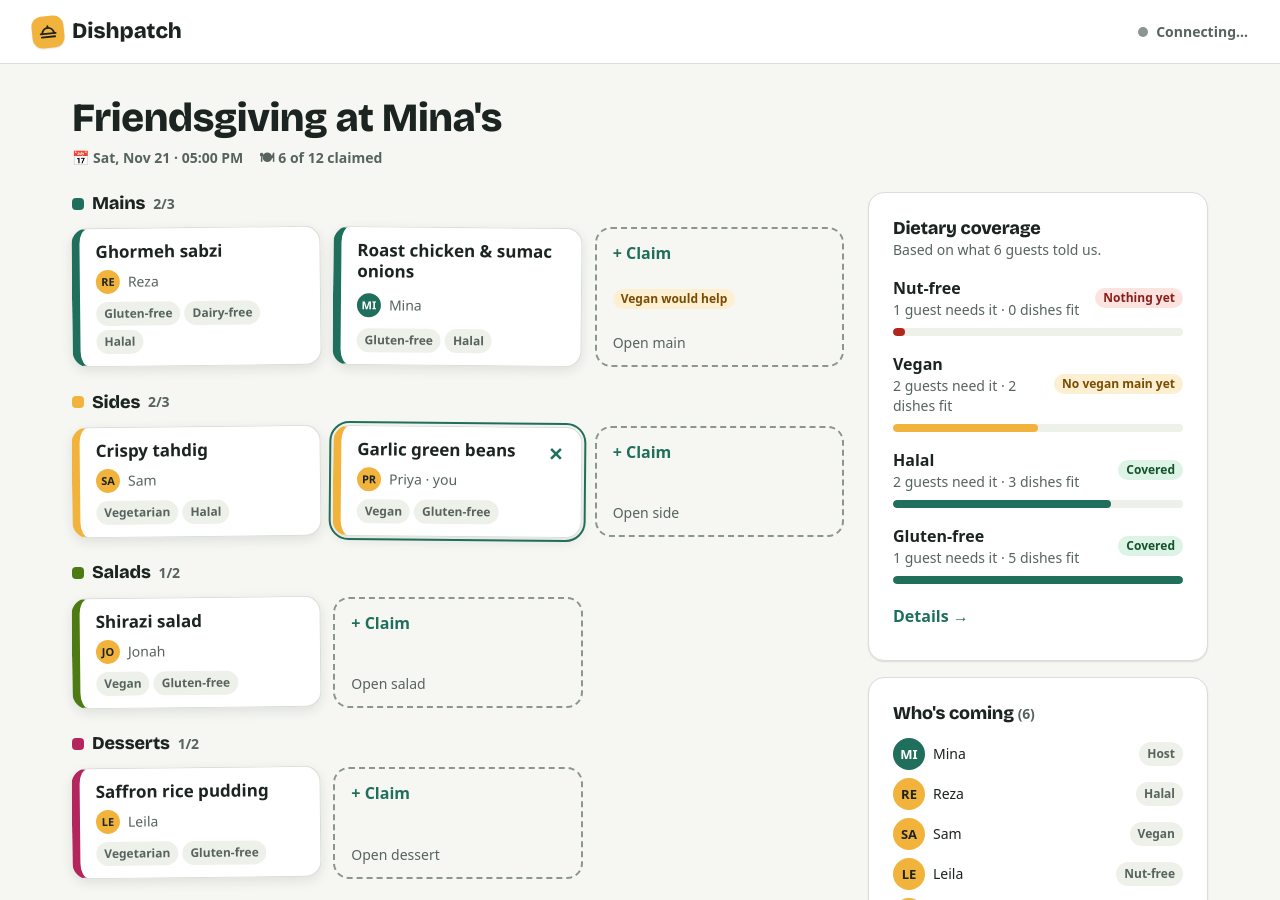
it: claim dialog preview › previews the vegan main gap closing as tags are picked
Click the button with aria-label "Claim open Mains slot 3": (719, 297) x1=595 y1=227 x2=844 y2=367
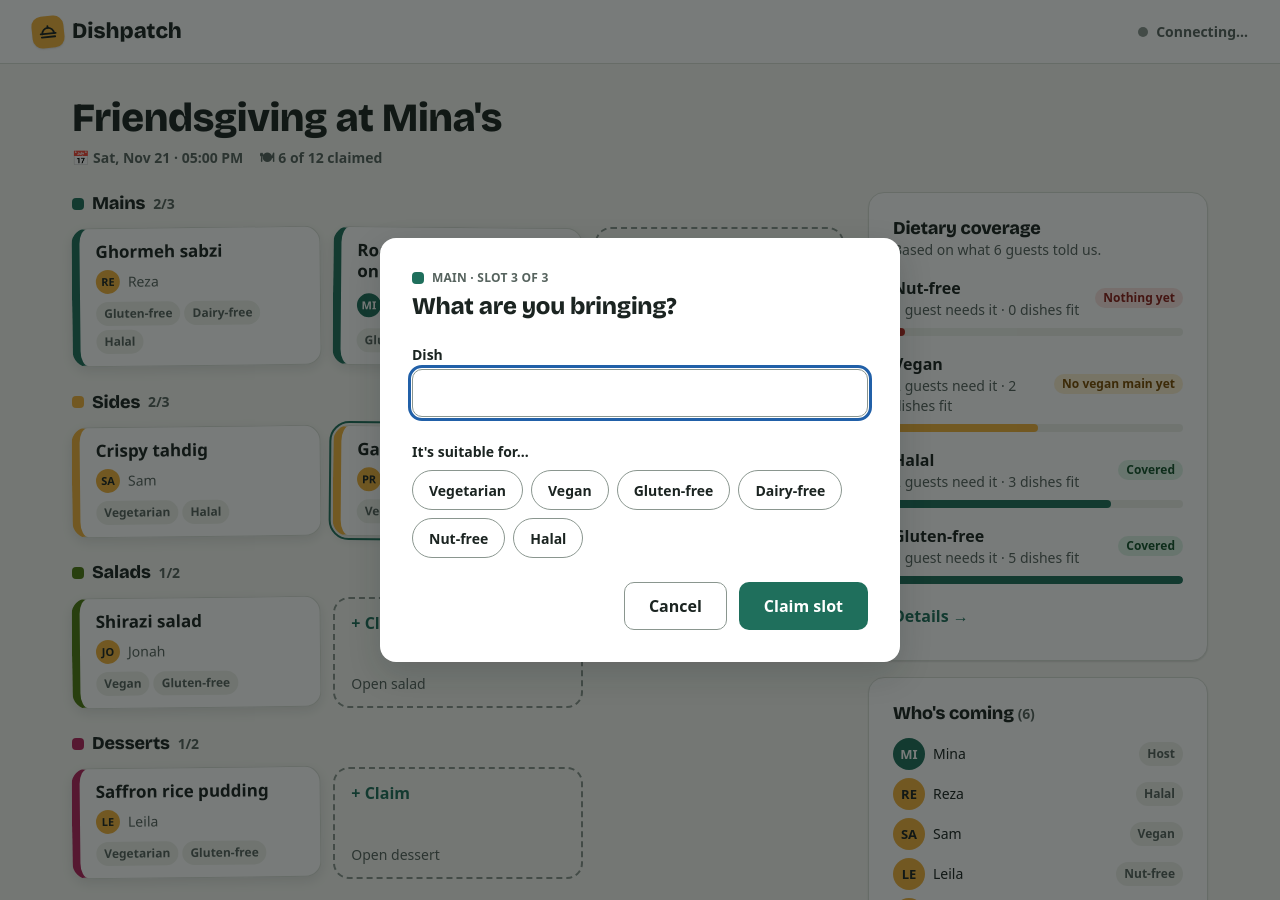
Expected: the text "This covers" is not shown
Click the button "Vegan": (570, 490) x1=531 y1=470 x2=609 y2=510
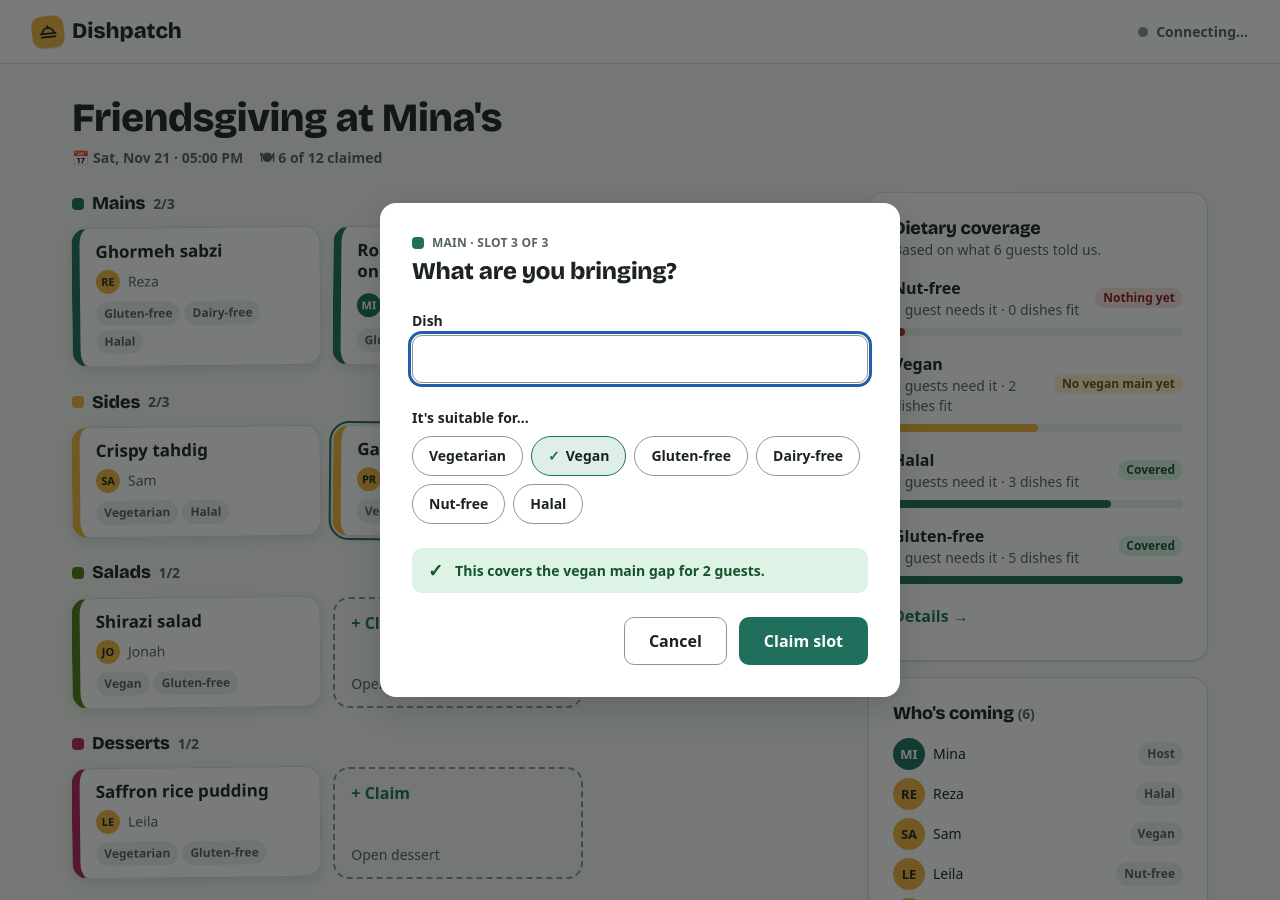
Now the message shows "This covers the vegan main gap for 2 guests.", box x1=455 y1=561 x2=765 y2=580
Click the button "✓ Vegan": (579, 456) x1=531 y1=436 x2=626 y2=476
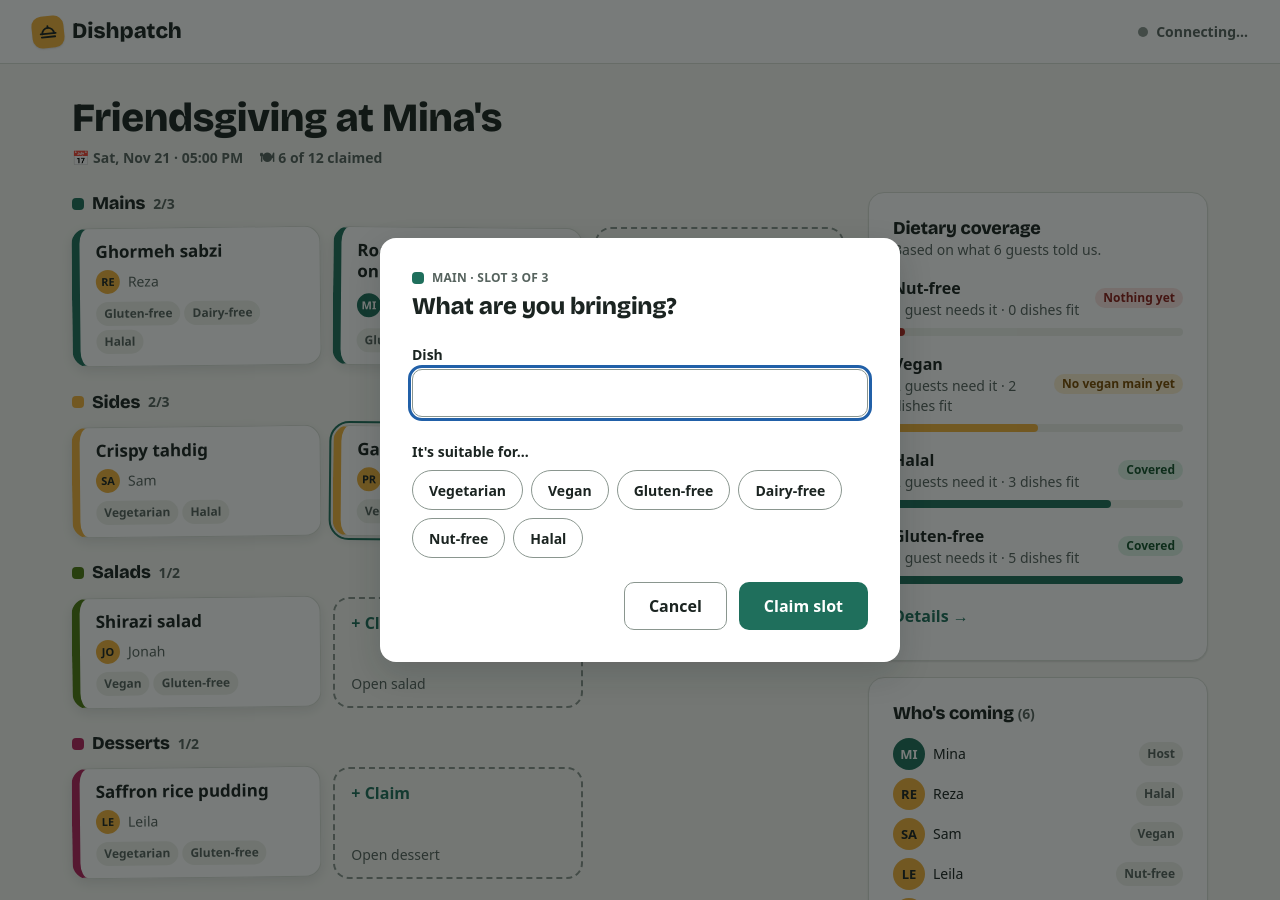
Now the text "This covers" is gone
